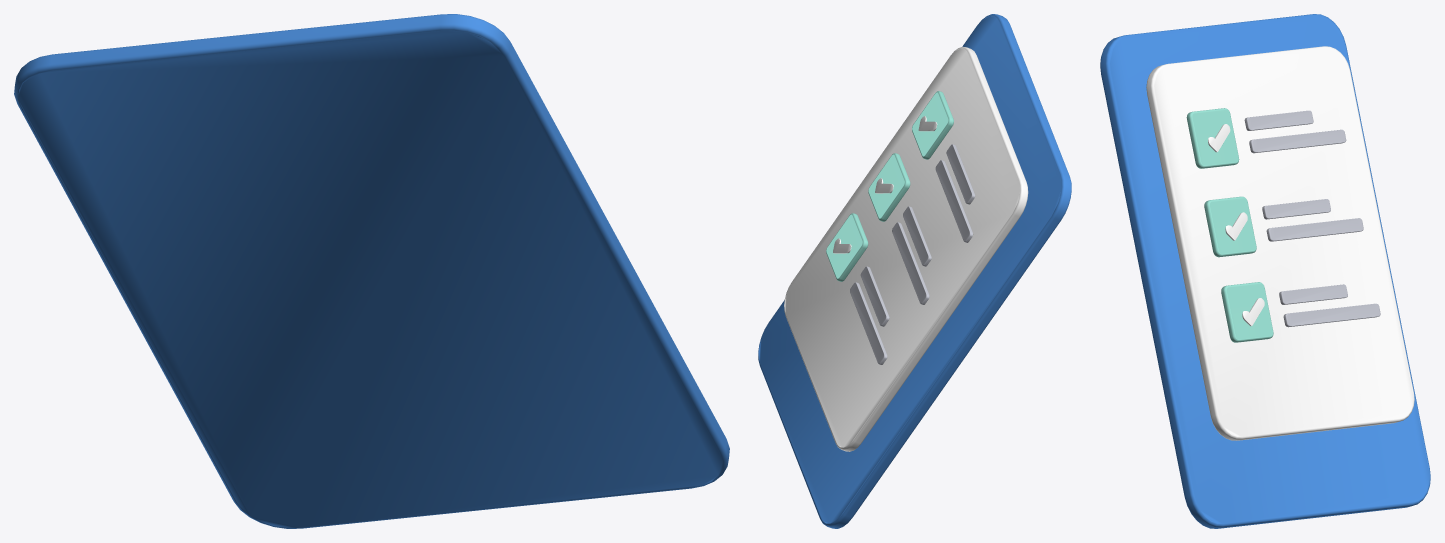
The model's file is task_board.glb.
The picture shows the model from 3 angles, left to right: view 1: azimuth 30°, elevation 25°; view 2: azimuth 150°, elevation 25°; view 3: azimuth 270°, elevation 25°; orthographic projection. The views are drawn at different scales.
Visible parts, largest first — view 1: Cube; view 2: Cube.014, Cube, Cube.010, Cube.006, Cube.002, Cube.005, Cube.008, Cube.012, Cube.003, Cube.011, Cube.007; view 3: Cube.014, Cube, Cube.006, Cube.010, Cube.002, Cube.005, Cube.008, Cube.012, Cube.011, Cube.007, Cube.003.
Part boxes in pixels (left/top/right/bottom): Cube: left=14, top=14, right=729, bottom=528; Cube.014: left=784, top=46, right=1028, bottom=451; Cube: left=758, top=14, right=1071, bottom=528; Cube.010: left=826, top=213, right=868, bottom=281; Cube.006: left=868, top=153, right=910, bottom=221; Cube.002: left=912, top=91, right=953, bottom=159; Cube.005: left=935, top=160, right=973, bottom=242; Cube.008: left=892, top=222, right=929, bottom=304; Cube.012: left=850, top=282, right=887, bottom=364; Cube.003: left=946, top=144, right=975, bottom=204; Cube.011: left=860, top=266, right=889, bottom=326; Cube.007: left=903, top=206, right=931, bottom=266; Cube.014: left=1146, top=46, right=1414, bottom=440; Cube: left=1100, top=14, right=1430, bottom=528; Cube.006: left=1204, top=196, right=1256, bottom=257; Cube.010: left=1221, top=282, right=1273, bottom=342; Cube.002: left=1186, top=108, right=1239, bottom=168; Cube.005: left=1249, top=129, right=1346, bottom=153; Cube.008: left=1266, top=218, right=1363, bottom=241; Cube.012: left=1283, top=303, right=1380, bottom=327; Cube.011: left=1279, top=284, right=1347, bottom=304; Cube.007: left=1262, top=199, right=1330, bottom=219; Cube.003: left=1244, top=110, right=1313, bottom=130.
Bounding box in the file's own units: 2.68 × 2.9 × 1.93.
